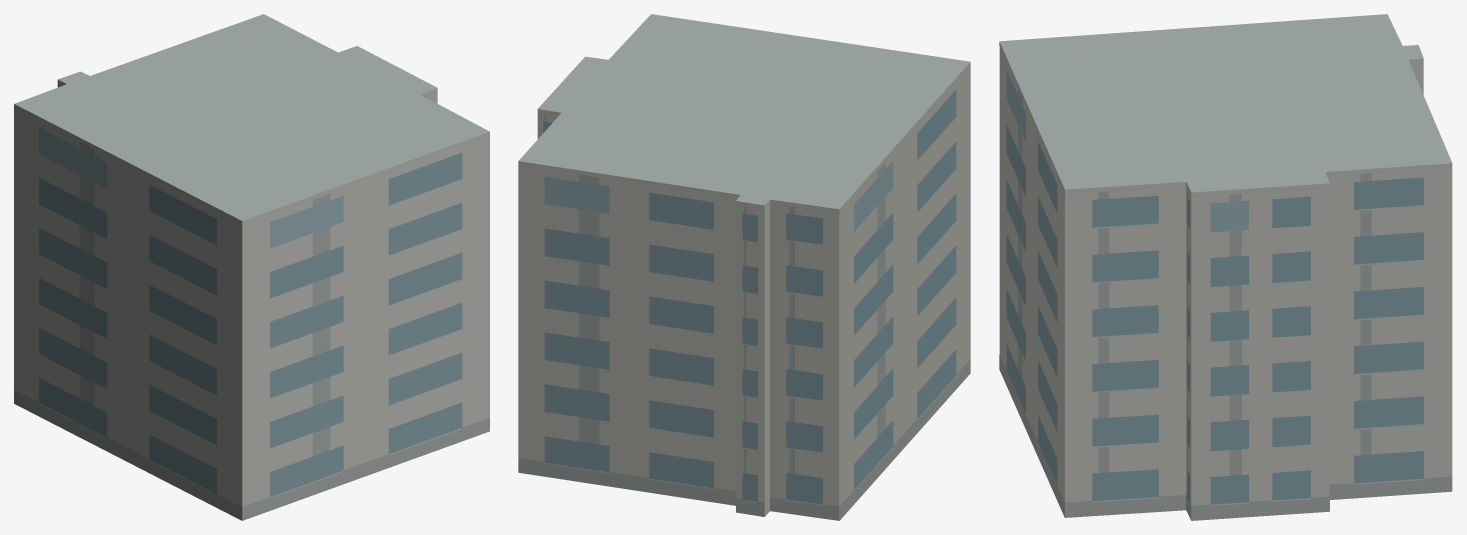
File: survey-upis-32835621.glb
3 renders of one model, left to right at view 1: azimuth 30°, elevation 25°; view 2: azimuth 150°, elevation 25°; view 3: azimuth 270°, elevation 25°, orthographic. The views are drawn at different scales.
Visible parts, largest first — view 1: survey-upis-32835621.tmp; view 2: survey-upis-32835621.tmp; view 3: survey-upis-32835621.tmp.
Part boxes in pixels (x1,y1,x2,y2): survey-upis-32835621.tmp: [14, 14, 489, 520]; survey-upis-32835621.tmp: [518, 14, 970, 520]; survey-upis-32835621.tmp: [999, 14, 1452, 520].
Bounding box in the file's own units: 20.24 × 17.35 × 21.7.
